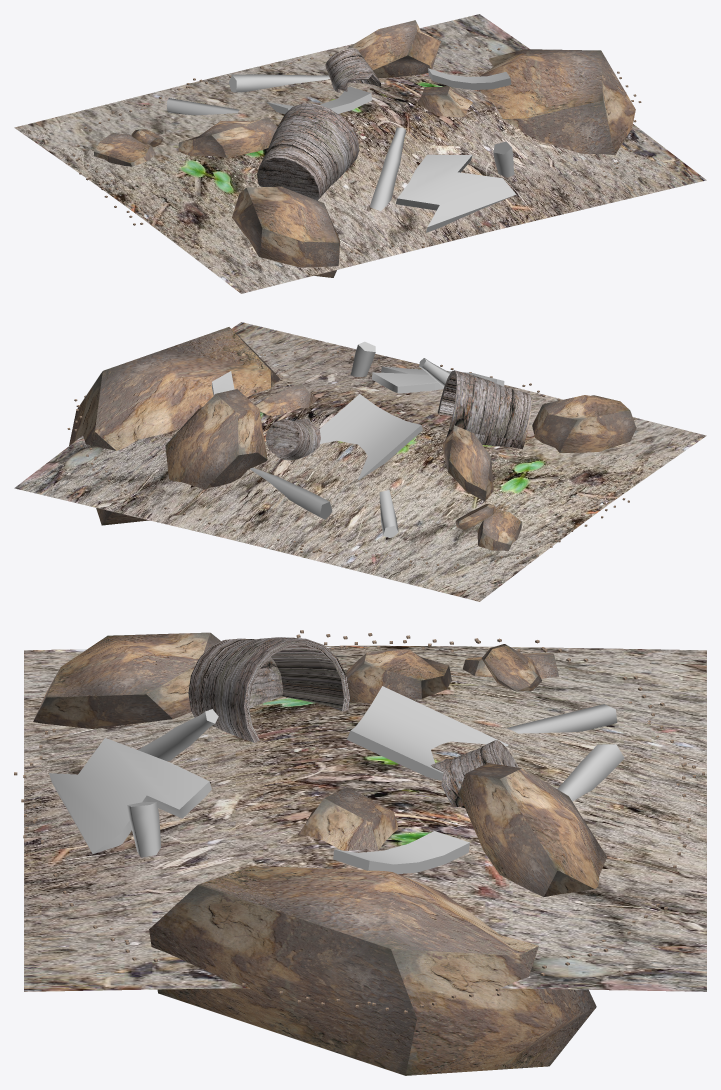
File: Debris.obj
The picture shows the model from 3 angles, top to bottom: view 1: azimuth 30°, elevation 25°; view 2: azimuth 150°, elevation 25°; view 3: azimuth 270°, elevation 25°; orthographic projection. The views are drawn at different scales.
Visible parts, largest first — view 1: Plane001, Rock008, board, wooden_bucket, Rock007, Rock006, Rock004, wooden_bucket001, Rock2, wood, Rock005, wood2 (+2 smaller); view 2: Plane001, Rock008, Rock006, board, wooden_bucket, Rock007, Rock004, wooden_bucket001, Rock2, wood2, Rock005, wood003 (+2 smaller); view 3: Plane001, Rock008, board, Rock006, Rock007, wooden_bucket, Rock004, Rock005, wooden_bucket001, Rock009, wood2, wood003 (+3 smaller).
Part boxes in pixels (x1,y1,x2,y2): Plane001: (14,14,706,293); Rock008: (480,49,635,155); board: (266,68,516,232); wooden_bucket: (257,103,359,200); Rock007: (232,186,339,277); Rock006: (347,20,440,78); Rock004: (178,118,277,157); wooden_bucket001: (325,48,380,92); Rock2: (94,132,155,166); wood: (370,127,406,211); Rock005: (417,87,472,117); wood2: (229,74,329,92); Plane001: (14,322,706,601); Rock008: (69,327,280,525); Rock006: (165,389,267,489); board: (212,366,504,479); wooden_bucket: (437,370,531,449); Rock007: (532,395,636,452); Rock004: (442,425,493,501); wooden_bucket001: (266,418,320,460); Rock2: (477,509,521,550); wood2: (250,467,332,519); Rock005: (255,383,317,415); wood003: (379,490,398,537); Plane001: (24,645,706,991); Rock008: (149,866,596,1075); board: (49,686,508,874); Rock006: (458,763,607,896); Rock007: (33,632,220,728); wooden_bucket: (188,637,350,742); Rock004: (346,649,451,703); Rock005: (297,787,397,850); wooden_bucket001: (431,740,518,807); Rock009: (481,644,541,691); wood2: (557,744,624,801); wood003: (507,704,617,733).
Size of what is drawn, in the model's own units: 52.78 by 14.8 by 40.46.
